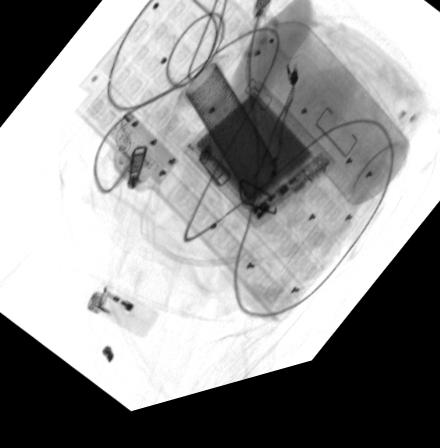Lighter: (85, 287, 158, 348)
Powerbank: (180, 93, 334, 243)
Sprayer: (226, 17, 407, 227)
